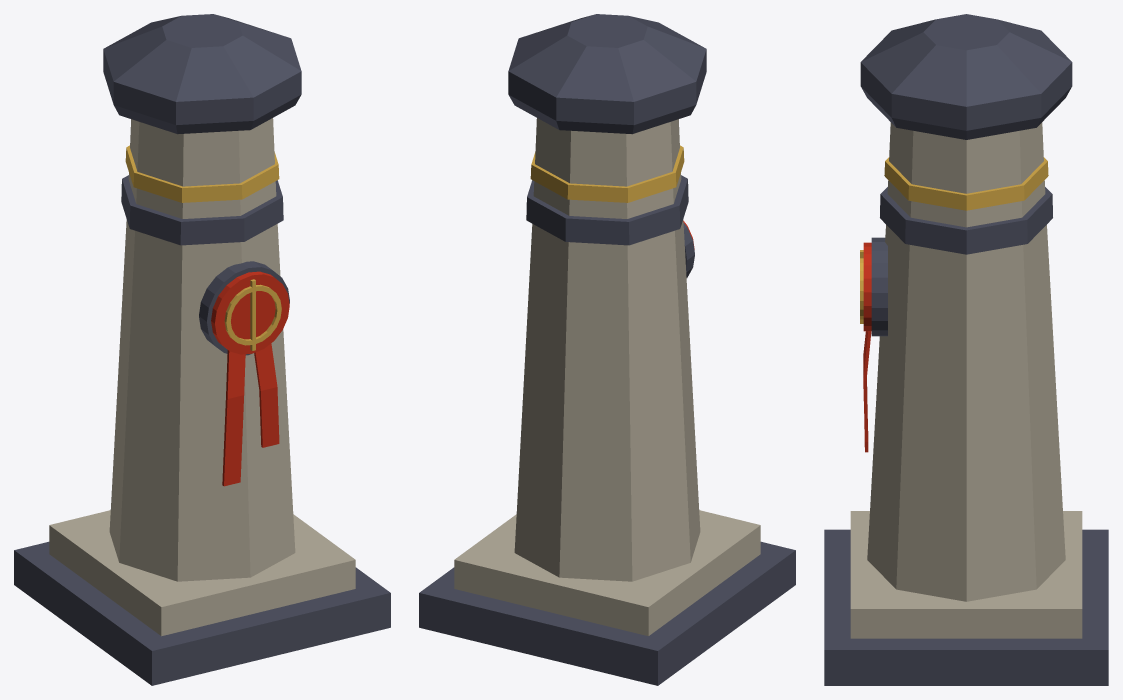
Rendered from post_sealed.glb.
3 renders of one model, left to right at view 1: azimuth 30°, elevation 25°; view 2: azimuth 150°, elevation 25°; view 3: azimuth 270°, elevation 25°, orthographic. The views are drawn at different scales.
Parts seen in each view (by area): view 1: PostSealed; view 2: PostSealed; view 3: PostSealed.
Boxes of the visible parts, x1,y1,x2,y2 form: PostSealed: (14, 14, 390, 685); PostSealed: (419, 14, 795, 685); PostSealed: (824, 14, 1108, 685).
Size of the model in its own units: 0.86 by 1.98 by 0.86.
